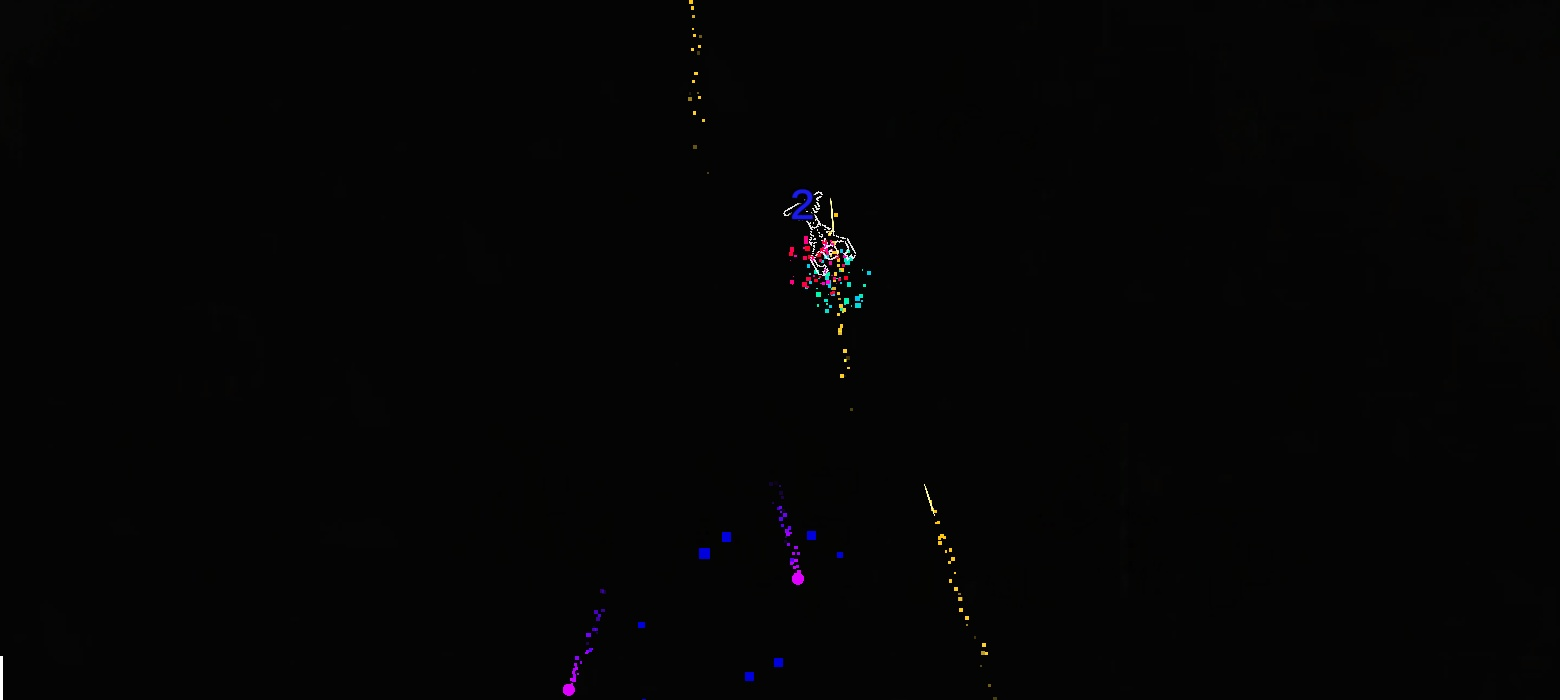enemy: (782, 191, 856, 276)
